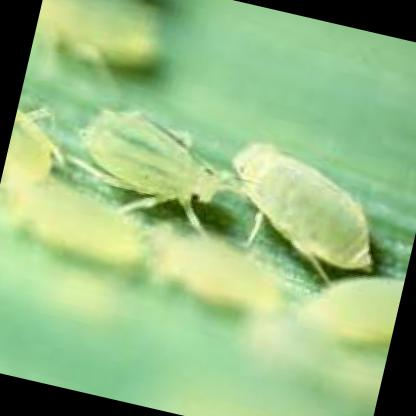schizaphis graminum: (69, 110, 236, 241), (234, 143, 369, 270)
